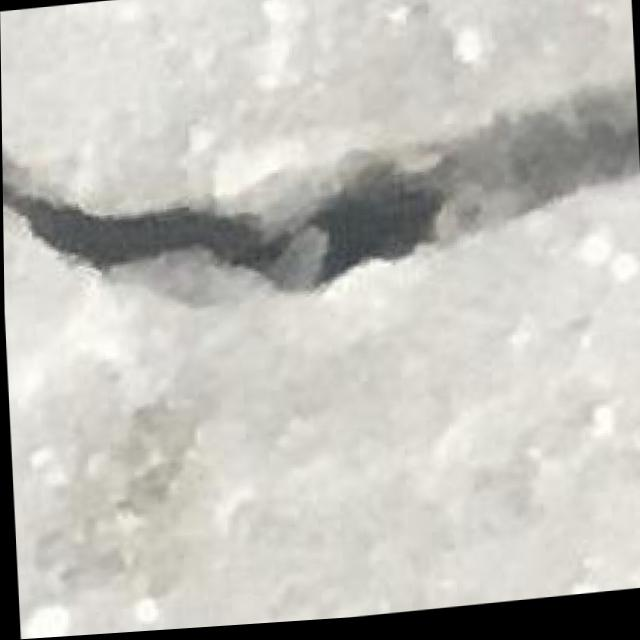Crack: (1, 74, 640, 346)
